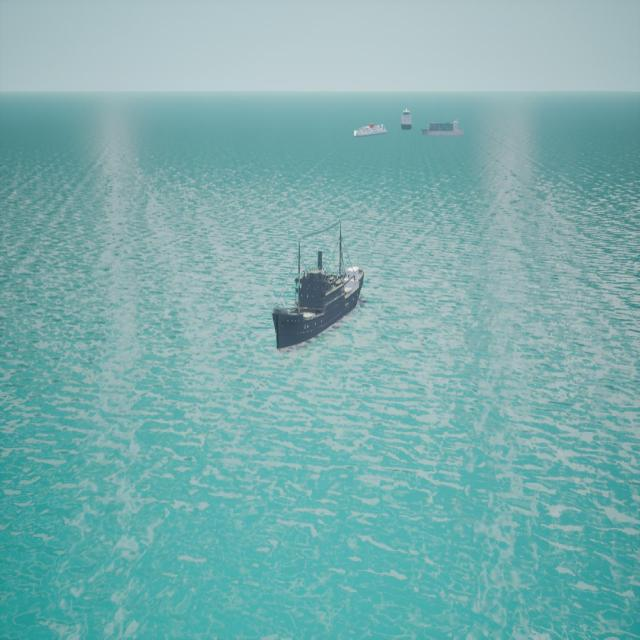fishing ship: (273, 265, 365, 351), (423, 124, 465, 141), (354, 125, 389, 139), (401, 110, 414, 132)
